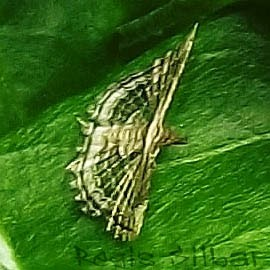Alucitidae: (62, 16, 205, 240)
moth: (60, 18, 203, 242)
